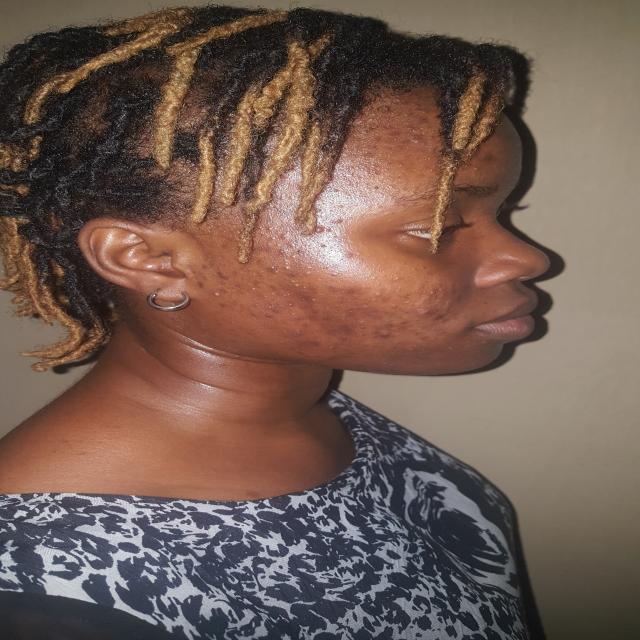Acne: (396, 320, 428, 340), (332, 324, 354, 340), (295, 291, 317, 304), (279, 265, 299, 279), (297, 338, 322, 349), (478, 152, 496, 166), (415, 308, 433, 320), (209, 287, 228, 298), (406, 136, 425, 146), (285, 326, 302, 336), (366, 165, 380, 177), (376, 330, 392, 340), (313, 226, 332, 234), (322, 187, 343, 194), (265, 264, 282, 272), (216, 270, 229, 280), (288, 310, 301, 320), (426, 287, 440, 296), (268, 284, 282, 293), (308, 307, 322, 316), (390, 274, 404, 282), (468, 166, 482, 174), (364, 144, 380, 151), (340, 251, 354, 259), (354, 304, 372, 310), (314, 241, 327, 249), (370, 291, 383, 299), (219, 242, 229, 252), (196, 279, 207, 288), (294, 247, 305, 256), (420, 107, 434, 114), (325, 285, 339, 292), (408, 102, 420, 110), (323, 342, 335, 350), (402, 161, 415, 168), (321, 315, 334, 322), (419, 116, 429, 125), (265, 223, 275, 232), (267, 234, 277, 243), (218, 301, 229, 309), (368, 274, 379, 282), (369, 185, 383, 191), (330, 271, 344, 277), (393, 174, 405, 181), (278, 248, 288, 256), (389, 303, 399, 311), (346, 288, 356, 296), (372, 135, 383, 142), (393, 129, 404, 136), (405, 346, 416, 353), (333, 217, 345, 223), (328, 232, 340, 238), (409, 126, 419, 133), (291, 280, 301, 287), (357, 326, 368, 332), (362, 150, 370, 158), (261, 314, 277, 318), (201, 264, 211, 270), (279, 232, 289, 238), (468, 248, 478, 254), (416, 173, 428, 178), (253, 280, 261, 287), (418, 265, 428, 270), (306, 270, 314, 276), (406, 113, 415, 118), (290, 301, 296, 307)
Englarged-Pores: (289, 206, 357, 270), (312, 196, 368, 222)
